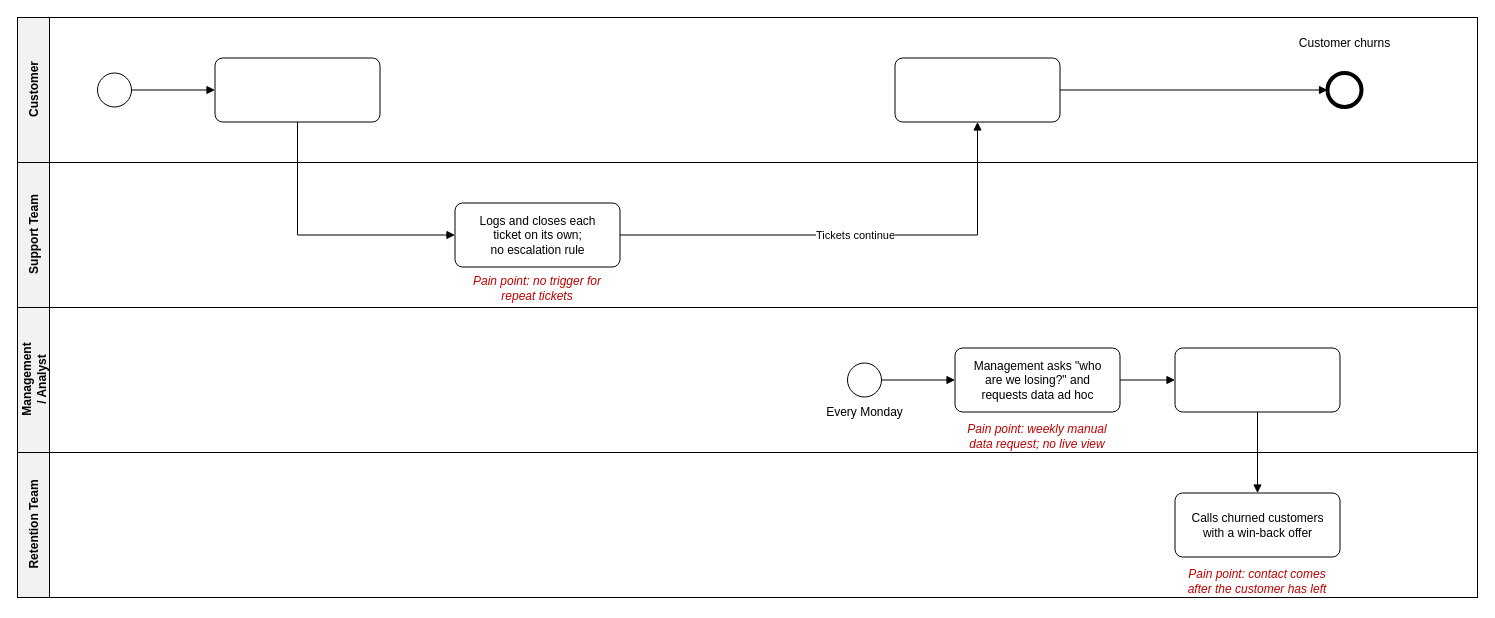
Image size: 1495x618. Some labels were removed from this diagram. The shapes that lost their labels are listed below. From the top down, each one's centre as x and y in pixels, then its label:
At pixel 297 89: "Has problems and raises support tickets".
At pixel 977 89: "Goes quiet: stops logging in".
At pixel 1257 379: "Analyst lists customers who have already churned".
